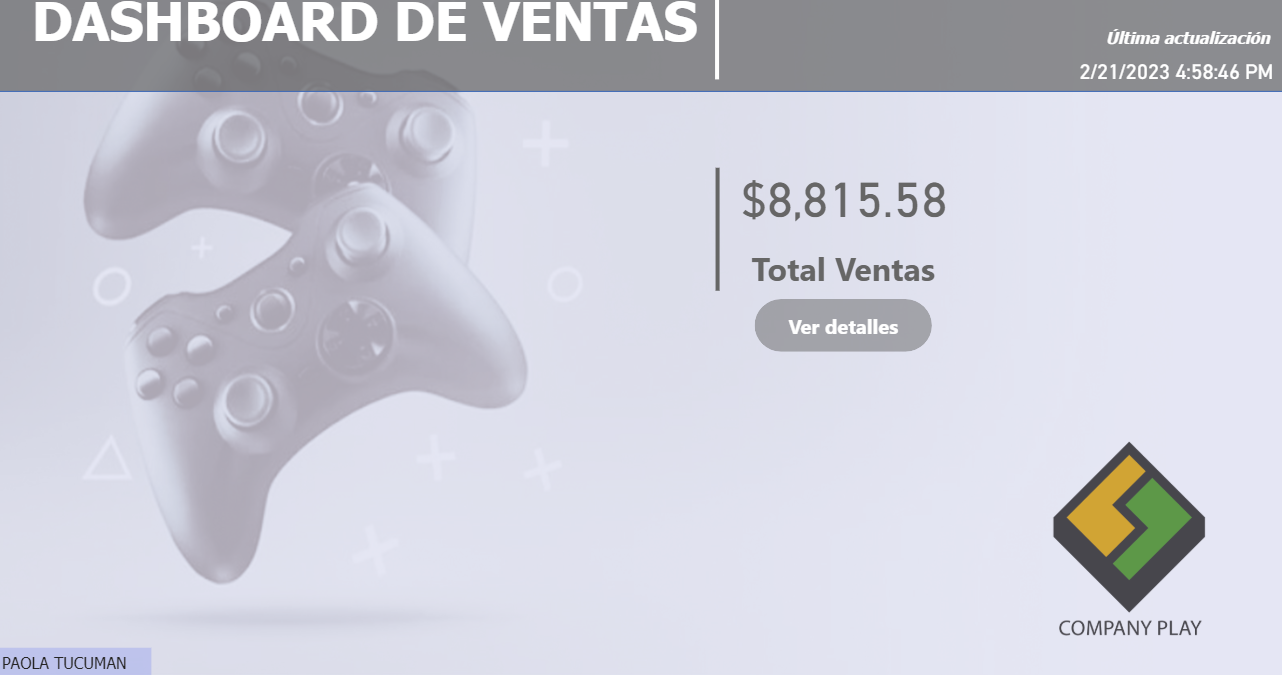

The page's visual inventory and layout, read from the dashboard file:
{"tool":"powerbi","page":{"name":"Portada","canvas":[1280,720],"ordinal":0},"visuals":[{"type":"shape","box":[0,0,1280.2,137.2],"z":0},{"type":"textbox","box":[30.2,29.1,829.1,80.2],"z":1000},{"type":"shape","box":[673.3,11.6,87.2,114],"z":2000},{"type":"card","fields":{"Values":["Min(Ultima_Act.Fecha Actual)"]},"box":[1067.3,97,212.9,40.4],"z":3000},{"type":"textbox","box":[1098.3,68.7,181.9,39.1],"z":4000},{"type":"image","box":[997.2,467.8,256,230.4],"z":5000},{"type":"card","fields":{"Values":["Medidas.Total Ventas"]},"box":[717.4,206.9,250.7,66],"z":6000},{"type":"textbox","box":[729.5,286.4,226.4,56.6],"z":7000},{"type":"shape","box":[652.7,212.3,128,122.6],"z":8000},{"type":"actionButton","box":[753.8,343,176.5,52.6],"z":9000},{"type":"textbox","box":[0,690,153.6,30.3],"z":10000}]}

Visuals, with their boxes on the page's 1280x720 design canvas (x1, y1, x2, y2). These are canvas units, not pixel positions in the 1282x675 screenshot, which may show the page scaled, cropped or inside an application window:
shape: <box>0,0,1280,137</box>
textbox: <box>30,29,859,109</box>
shape: <box>673,12,760,126</box>
card - Min(Ultima_Act.Fecha Actual): <box>1067,97,1280,137</box>
textbox: <box>1098,69,1280,108</box>
image: <box>997,468,1253,698</box>
card - Medidas.Total Ventas: <box>717,207,968,273</box>
textbox: <box>730,286,956,343</box>
shape: <box>653,212,781,335</box>
actionButton: <box>754,343,930,396</box>
textbox: <box>0,690,154,720</box>
